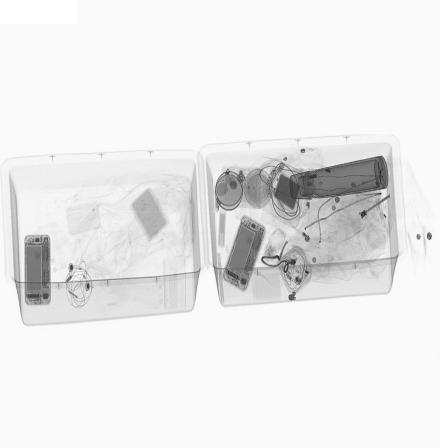Powerbank: (260, 166, 304, 216)
